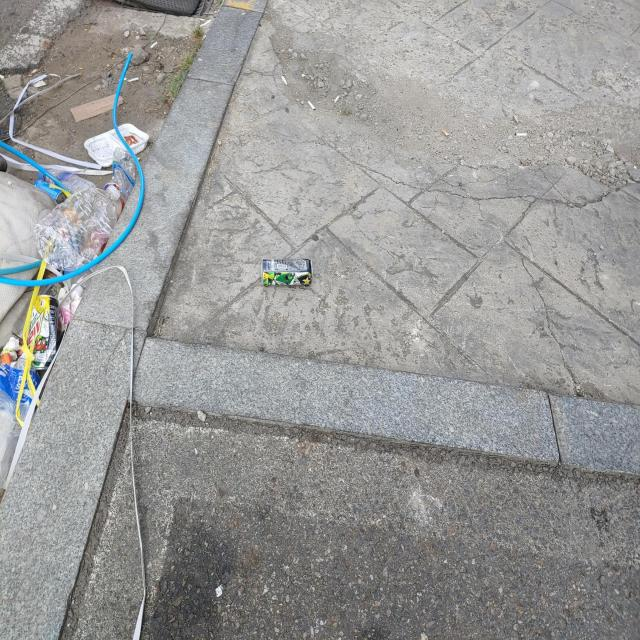can: (262, 258, 312, 286)
